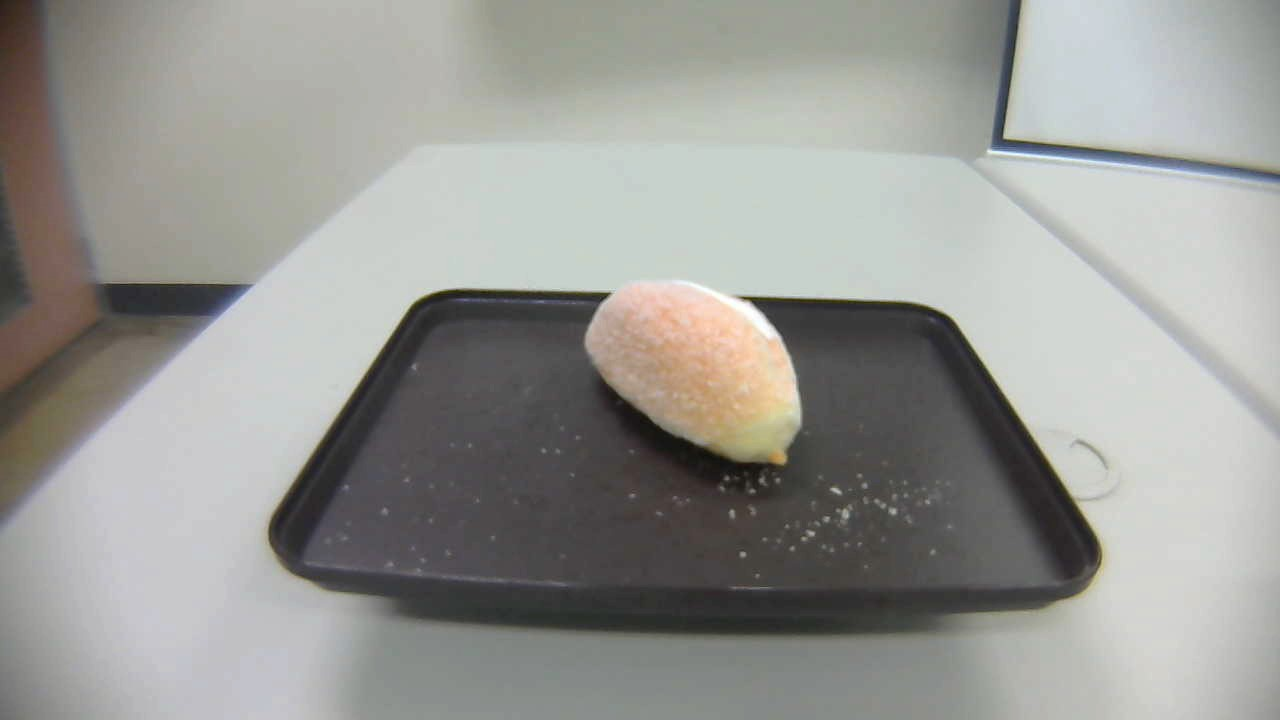coconut: (582, 277, 804, 467)
